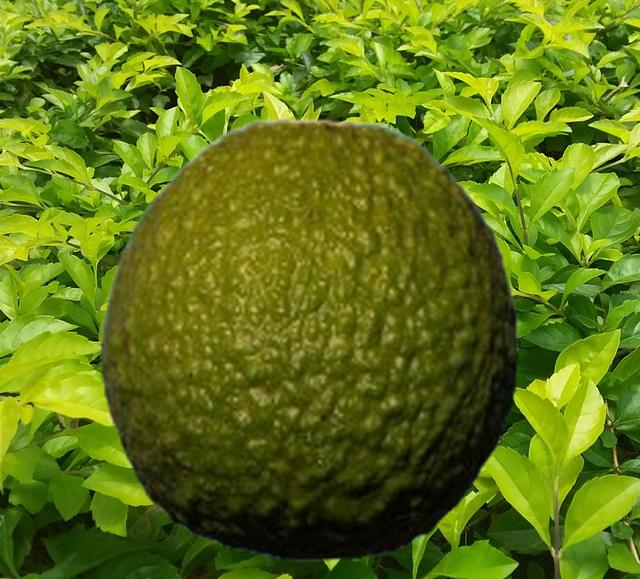avocado: (99, 117, 517, 560)
